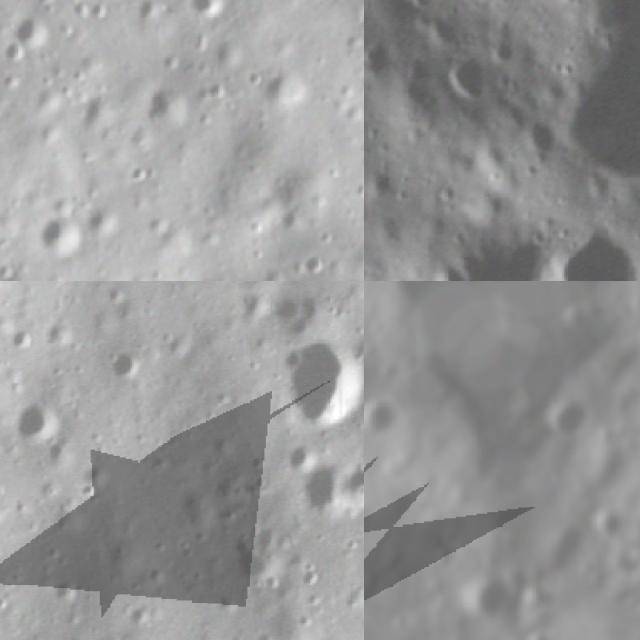crater: (445, 0, 640, 203), (274, 336, 364, 436), (423, 233, 564, 281), (541, 215, 640, 281), (536, 380, 610, 449), (453, 557, 520, 624), (234, 533, 296, 589), (437, 42, 488, 105), (272, 291, 332, 342), (146, 81, 202, 134), (9, 397, 66, 444), (364, 386, 402, 447), (42, 209, 94, 248), (9, 15, 54, 60), (334, 459, 364, 515), (108, 350, 148, 390), (247, 520, 290, 554), (518, 116, 556, 154), (79, 459, 117, 494), (364, 33, 391, 82), (46, 432, 81, 467), (590, 501, 624, 537), (426, 249, 464, 281), (50, 574, 84, 608), (482, 26, 512, 64), (364, 161, 394, 199), (386, 604, 421, 636), (400, 45, 428, 84), (211, 587, 244, 619), (548, 48, 578, 82), (190, 0, 235, 20), (374, 533, 400, 561), (592, 419, 620, 444), (299, 563, 328, 587), (127, 601, 151, 629), (438, 515, 461, 540)
